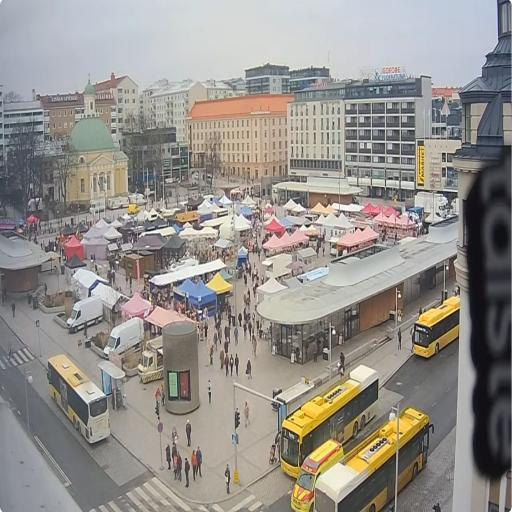Bus: (314, 408, 434, 511), (280, 365, 379, 478), (47, 354, 110, 444), (414, 297, 460, 358)
Delivery: (104, 318, 143, 358), (67, 297, 103, 332), (138, 336, 163, 383)
